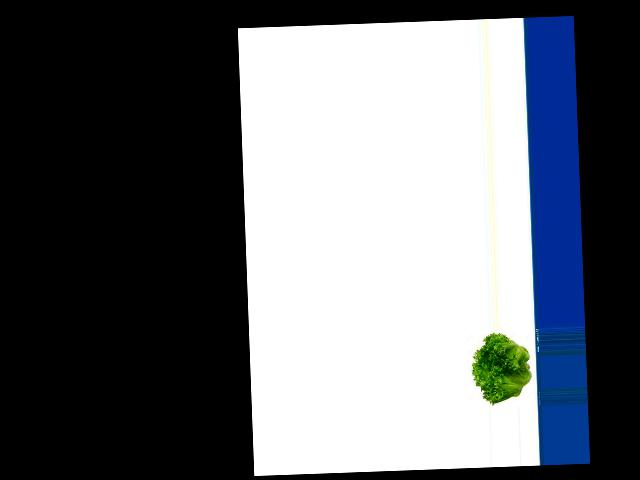lettuce: (468, 331, 536, 403)
